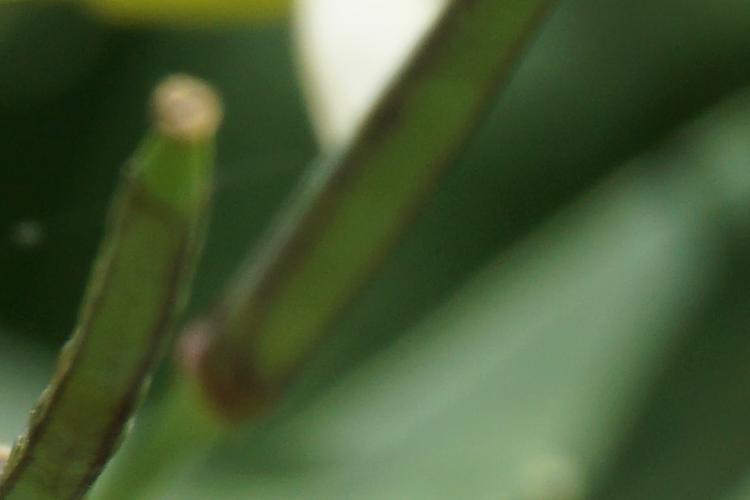pod: (235, 1, 555, 418), (55, 72, 206, 441)
